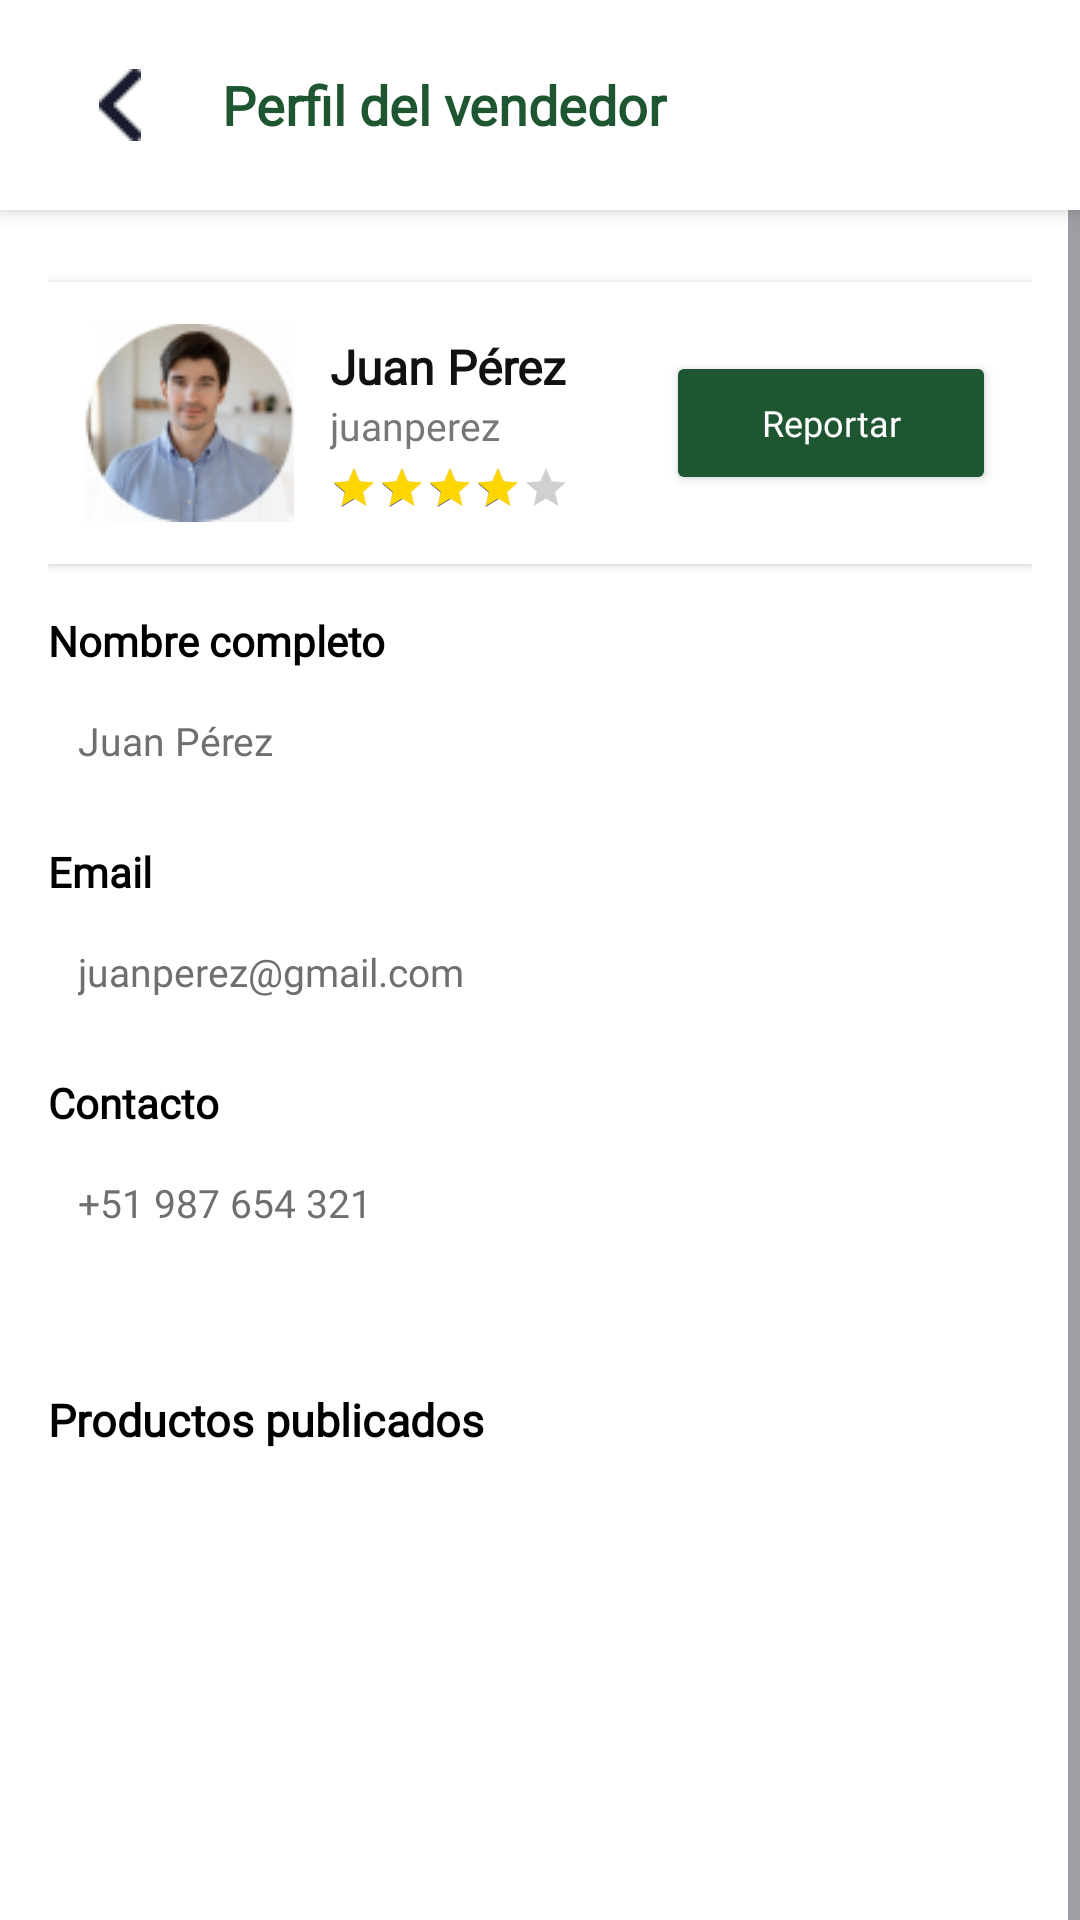

Icons on this 1080*1920 Android screen, each with the point to tap as (x=x, y=y):
back: (x=120, y=105)
user: (x=189, y=423)
